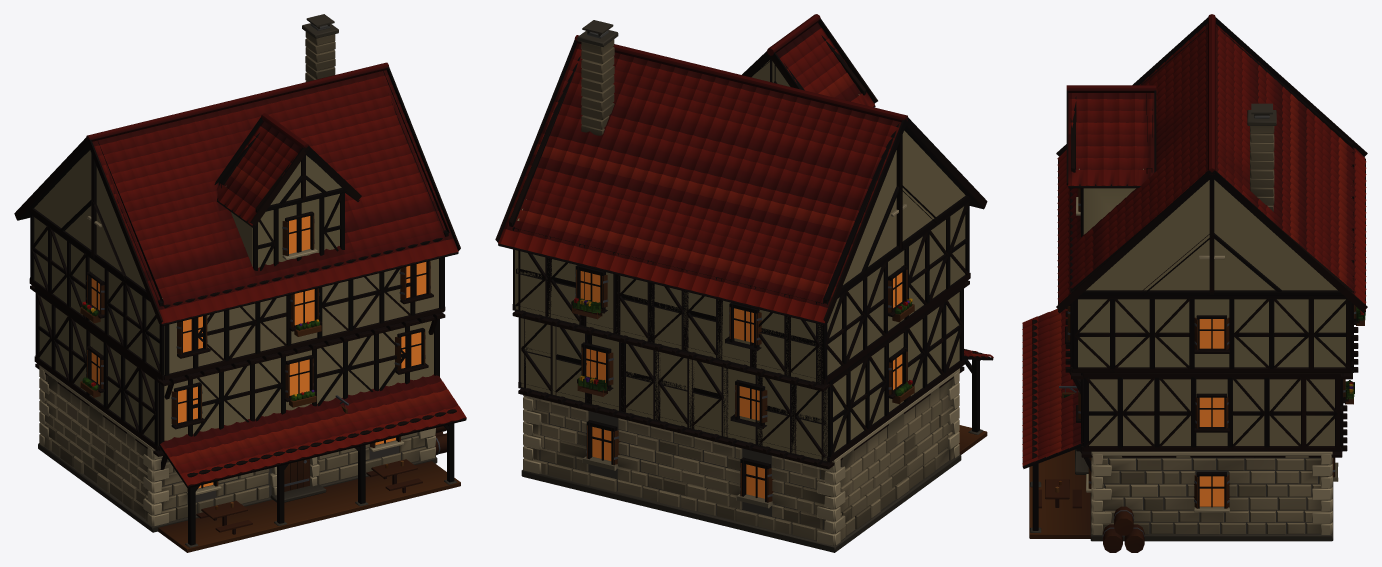
File: Taverna4.fbx
3 renders of one model, left to right at view 1: azimuth 30°, elevation 25°; view 2: azimuth 150°, elevation 25°; view 3: azimuth 270°, elevation 25°, orthographic. The views are drawn at different scales.
Visible parts, largest first — view 1: Taverna4; view 2: Taverna4; view 3: Taverna4.
Boxes of the visible parts, <box> form: Taverna4: <box>14,14,466,552</box>; Taverna4: <box>495,14,993,552</box>; Taverna4: <box>1022,14,1367,552</box>.
Bounding box in the file's own units: 12.44 × 14.81 × 11.17.
